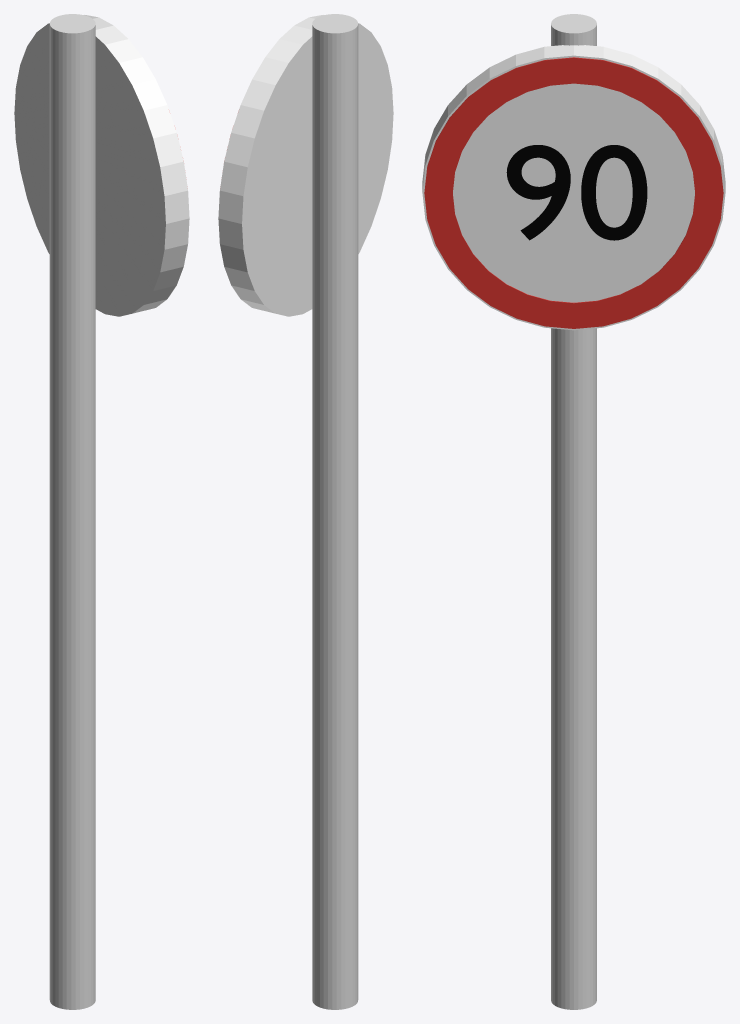
The model's file is SignSpeedLimit90.fbx.
3 renders of one model, left to right at view 1: azimuth 30°, elevation 25°; view 2: azimuth 150°, elevation 25°; view 3: azimuth 270°, elevation 25°, orthographic.
Parts seen in each view (by area): view 1: Cylinder.012, SignCircle.014; view 2: Cylinder.012, SignCircle.014; view 3: SignCircle.014, Cylinder.012, SignCircle.015, TextStop.008.
Part boxes in pixels (x1=…): Cylinder.012: x1=49, y1=14, x2=95, y2=1009; SignCircle.014: x1=14, y1=15, x2=189, y2=316; Cylinder.012: x1=312, y1=14, x2=358, y2=1009; SignCircle.014: x1=218, y1=15, x2=393, y2=316; SignCircle.014: x1=422, y1=45, x2=725, y2=330; Cylinder.012: x1=551, y1=14, x2=596, y2=1009; SignCircle.015: x1=424, y1=57, x2=723, y2=328; TextStop.008: x1=506, y1=145, x2=647, y2=240.
Size of the model in its own units: 111 by 1671 by 470.
